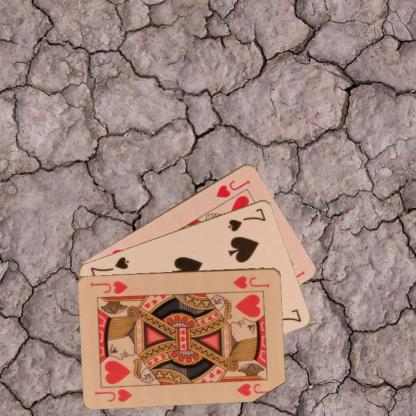7s: (225, 205, 267, 233)
Jh: (213, 176, 252, 199), (92, 386, 134, 403), (231, 273, 271, 290)
